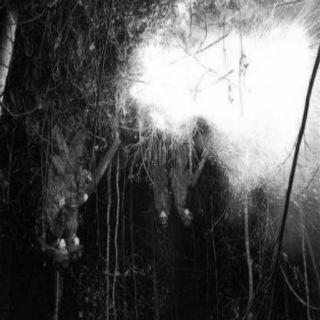Fire: (137, 18, 305, 172)
